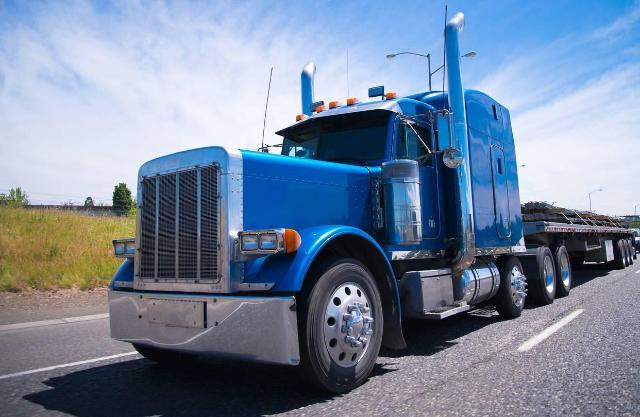truck: (77, 34, 634, 377)
